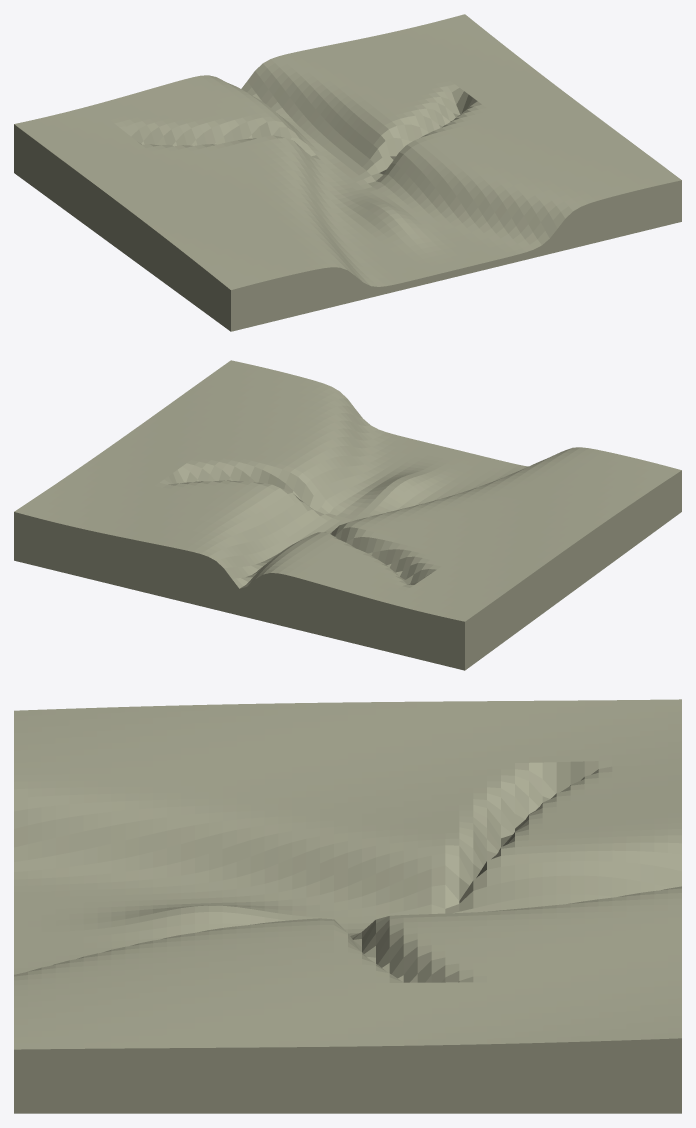
Rendered from estuary-basin.glb.
The picture shows the model from 3 angles, top to bottom: view 1: azimuth 30°, elevation 25°; view 2: azimuth 150°, elevation 25°; view 3: azimuth 270°, elevation 25°; orthographic projection. The views are drawn at different scales.
Parts seen in each view (by area): view 1: continuous-estuary-land-and-bed-with-connected-widening-chan; view 2: continuous-estuary-land-and-bed-with-connected-widening-chan; view 3: continuous-estuary-land-and-bed-with-connected-widening-chan.
Boxes of the visible parts, <box> form: continuous-estuary-land-and-bed-with-connected-widening-chan: <box>14,14,681,331</box>; continuous-estuary-land-and-bed-with-connected-widening-chan: <box>14,360,681,670</box>; continuous-estuary-land-and-bed-with-connected-widening-chan: <box>14,699,681,1113</box>.
Size of the model in its own units: 12 by 1.33 by 10.
